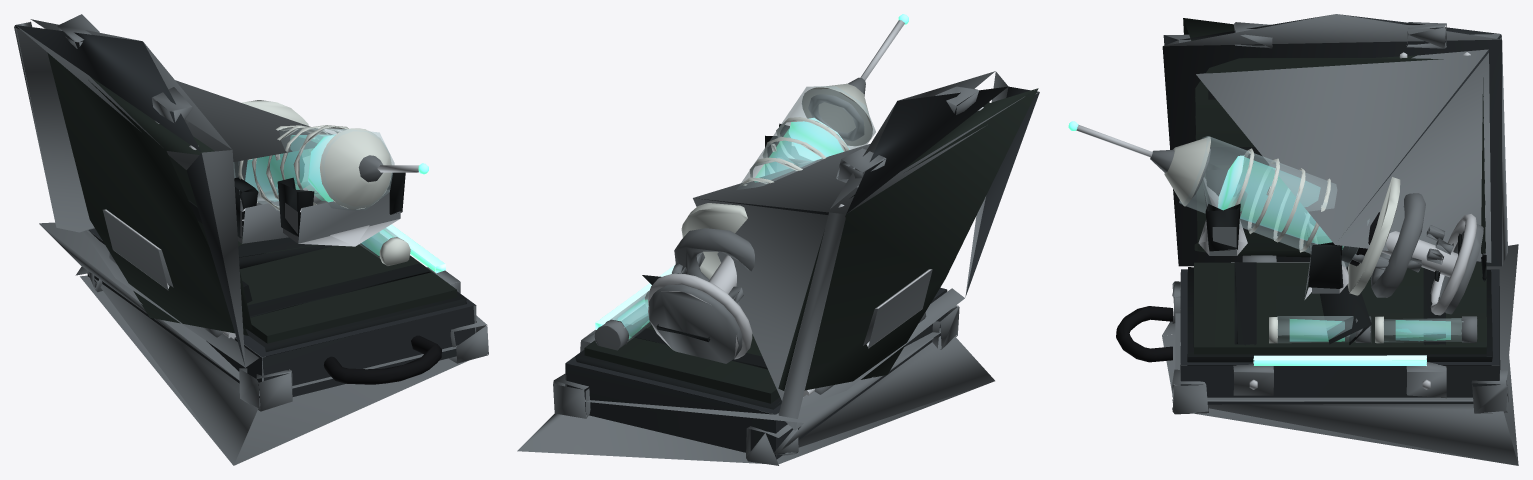
The model's file is inject.glb.
3 renders of one model, left to right at view 1: azimuth 30°, elevation 25°; view 2: azimuth 150°, elevation 25°; view 3: azimuth 270°, elevation 25°, orthographic. The views are drawn at different scales.
Parts seen in each view (by area): view 1: tapa, tapa_espuma, caso_banda, caso_espuma, caso_base, cuerpo, cuello, cuna_2, caso_asa, caso_ranura_1, tapa_placa, caso_boca (+16 smaller); view 2: tapa, tapa_espuma, caso_banda, caso_base, cuerpo, caso_espuma, embolo_palma, dial, liquido, tapa_placa, cuello, brida (+15 smaller); view 3: tapa, caso_espuma, caso_banda, caso_base, cuerpo, tapa_espuma, liquido, caso_boca, dial, caso_ranura_2, brida, vial_cuerpo_1 (+29 smaller).
Part boxes in pixels (left/top/right/bottom): tapa: left=14, top=19, right=332, bottom=367; tapa_espuma: left=47, top=52, right=252, bottom=335; caso_banda: left=39, top=222, right=468, bottom=465; caso_espuma: left=238, top=234, right=456, bottom=343; caso_base: left=87, top=228, right=476, bottom=397; cuerpo: left=233, top=128, right=394, bottom=210; cuello: left=320, top=128, right=391, bottom=209; cuna_2: left=283, top=184, right=400, bottom=246; caso_asa: left=324, top=335, right=441, bottom=384; caso_ranura_1: left=247, top=263, right=431, bottom=317; tapa_placa: left=102, top=209, right=173, bottom=290; caso_boca: left=245, top=291, right=466, bottom=356; tapa: left=693, top=71, right=1039, bottom=430; tapa_espuma: left=778, top=88, right=1038, bottom=390; caso_banda: left=517, top=328, right=994, bottom=463; caso_base: left=565, top=287, right=947, bottom=459; cuerpo: left=736, top=86, right=875, bottom=189; caso_espuma: left=584, top=304, right=779, bottom=403; embolo_palma: left=648, top=284, right=742, bottom=363; dial: left=674, top=228, right=754, bottom=306; liquido: left=754, top=121, right=843, bottom=182; tapa_placa: left=863, top=269, right=932, bottom=348; cuello: left=802, top=83, right=872, bottom=145; brida: left=681, top=203, right=747, bottom=279; tapa: left=1162, top=14, right=1507, bottom=266; caso_espuma: left=1193, top=262, right=1486, bottom=356; caso_banda: left=1162, top=244, right=1518, bottom=465; caso_base: left=1180, top=269, right=1500, bottom=404; cuerpo: left=1179, top=136, right=1369, bottom=267; tapa_espuma: left=1183, top=18, right=1485, bottom=257; liquido: left=1227, top=157, right=1343, bottom=249; caso_boca: left=1187, top=267, right=1492, bottom=365; dial: left=1370, top=193, right=1425, bottom=297; caso_ranura_2: left=1311, top=243, right=1371, bottom=344; brida: left=1347, top=177, right=1400, bottom=295; vial_cuerpo_1: left=1277, top=316, right=1355, bottom=342.
Bounding box in the file's own units: 0.6688 × 0.6504 × 0.8201.
